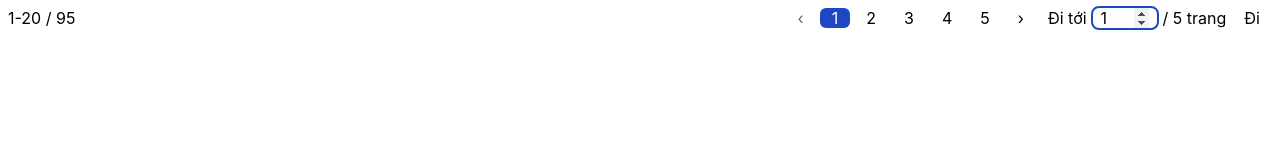
jumper resyncs its value after navigating
Step 1. Replace the text in the number field named "Đi tới trang" with "3" → point(1125, 18), box [1093, 8, 1157, 28]
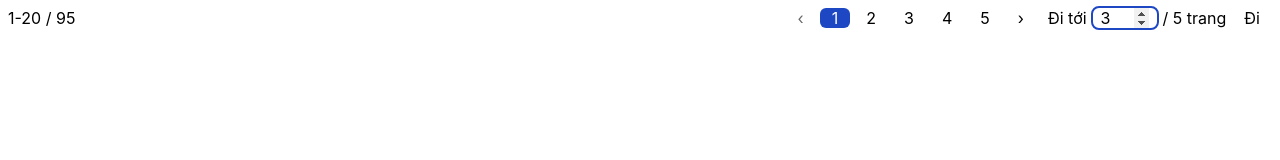
Step 2. Submit the form named "Đi tới trang", box [1048, 8, 1272, 28]
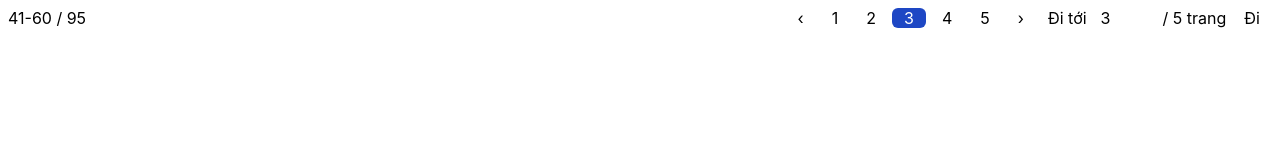
Now the number field named "Đi tới trang" holds "3", box [1093, 8, 1157, 28]
